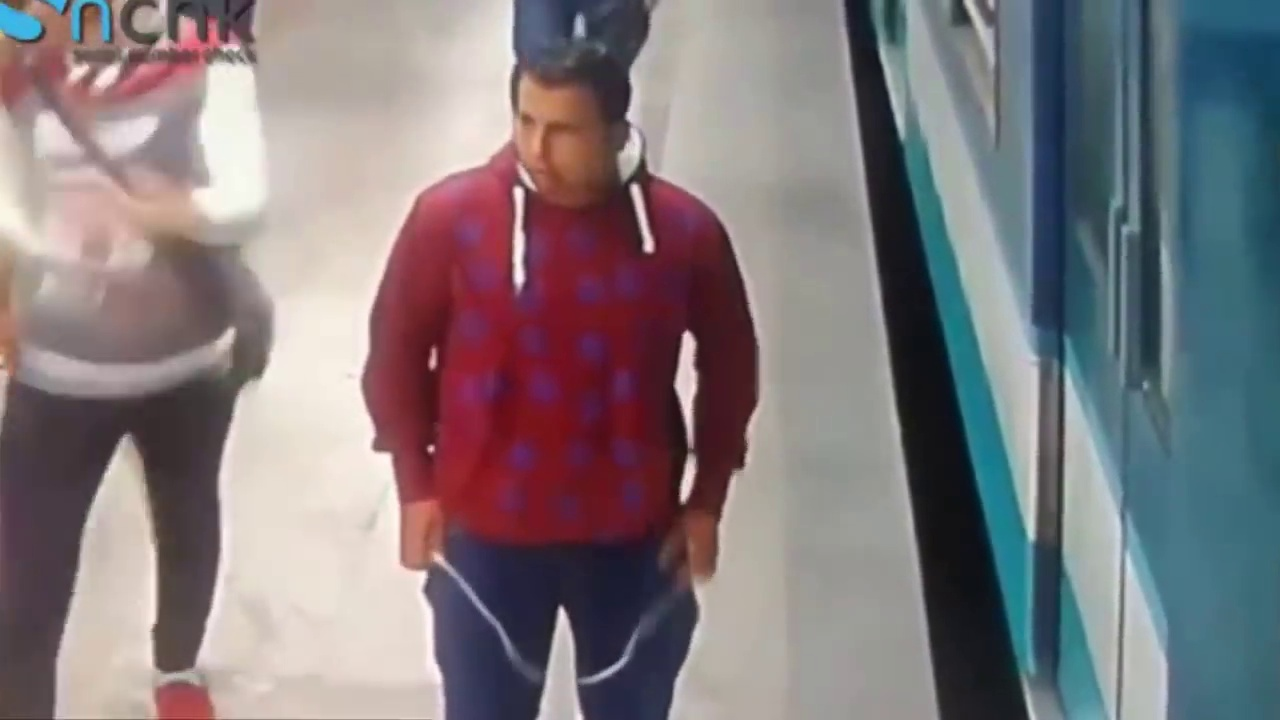face: (509, 83, 599, 188)
